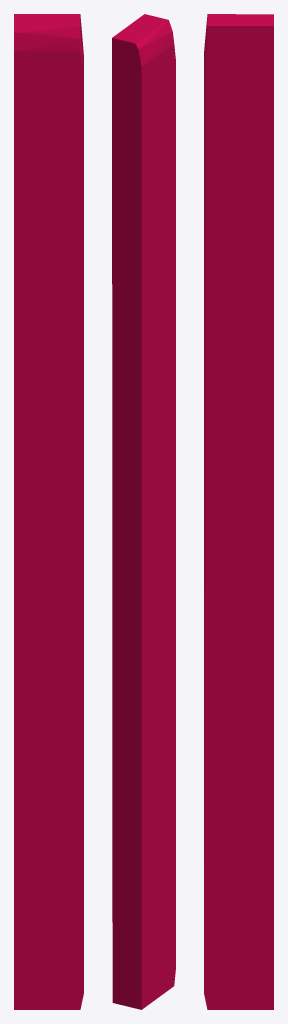
3 renders of one model, left to right at view 1: azimuth 90°, elevation 25°; view 2: azimuth 150°, elevation 25°; view 3: azimuth 270°, elevation 25°, orthographic. The views are drawn at different scales.
Size of the model in its own units: 0.3918 by 12.2 by 0.7855.
